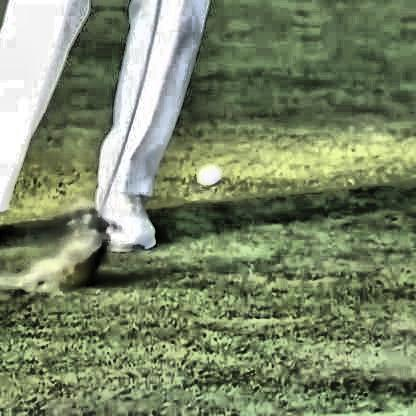golfball: (195, 159, 219, 183)
